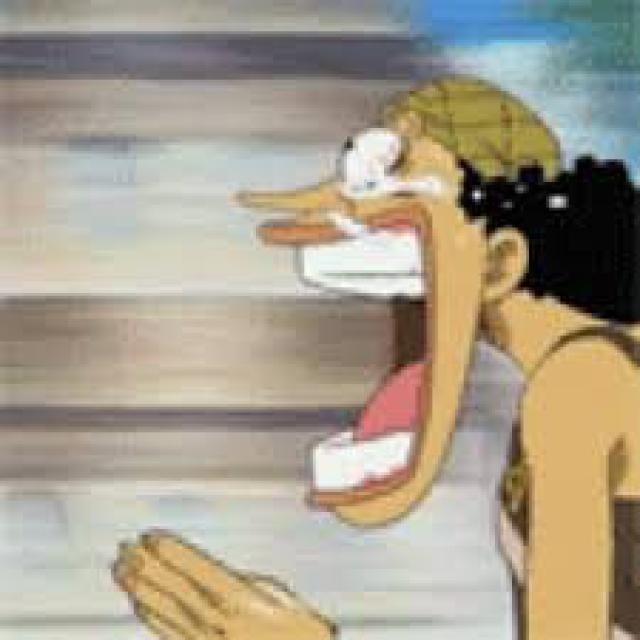Usopp: (233, 77, 640, 640)
